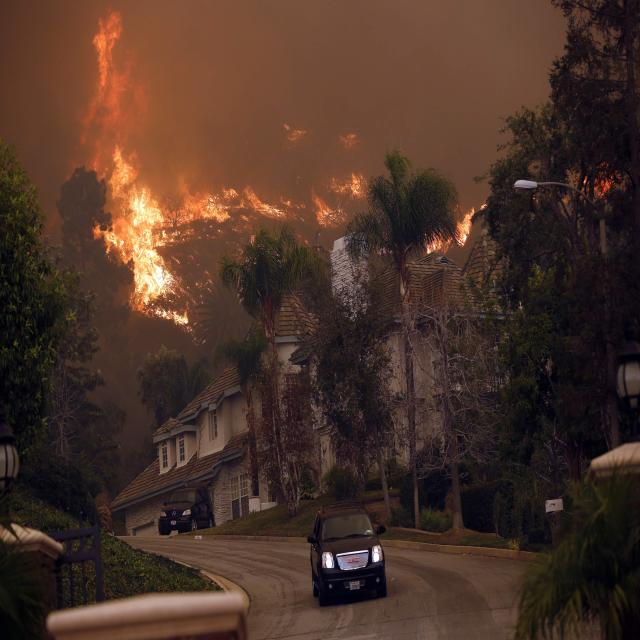Fire: (86, 154, 185, 328), (78, 14, 144, 143), (171, 170, 286, 225), (308, 191, 344, 234), (338, 163, 378, 199), (425, 231, 464, 264), (276, 111, 310, 147), (587, 162, 621, 196), (458, 203, 480, 253), (332, 126, 361, 150)
Smoke: (10, 0, 598, 214)
